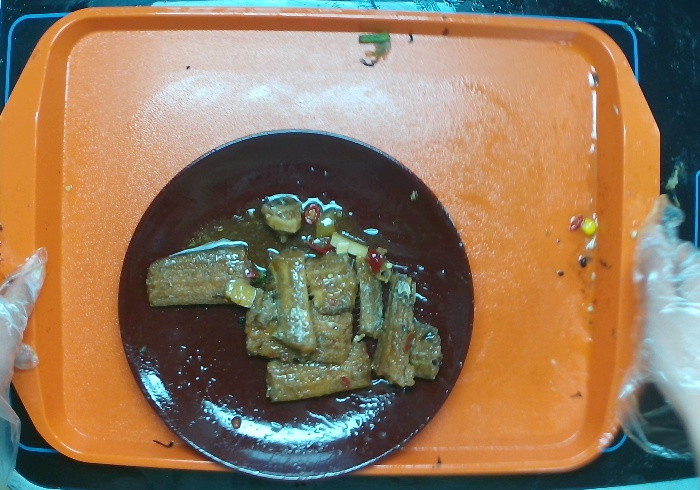HZYJPL-Ka_Fei_Yuan_Pan: (125, 131, 481, 479)
